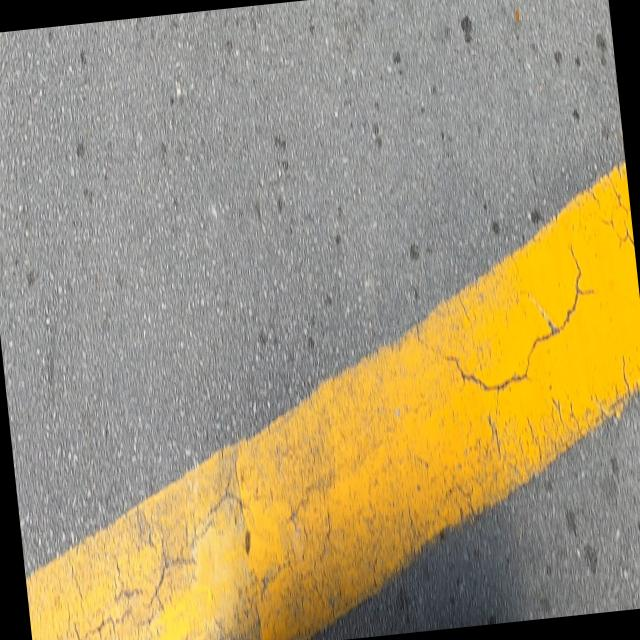Retak-Melintang: (439, 245, 583, 398)
